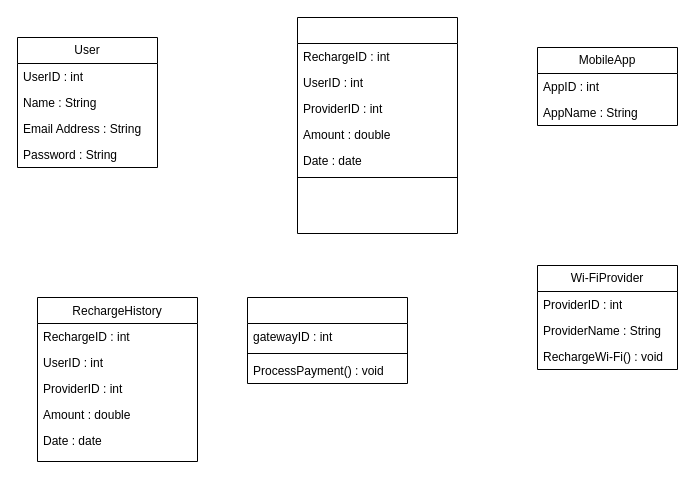
Some shapes in this 695 by 479 pixel diagram are drawn without their labels. Here are the shapes that lost their labels. From the top down, the box of each, then its label:
(296, 16, 458, 234): Wi-FiRecharge
(246, 296, 408, 384): PaymentGateway
